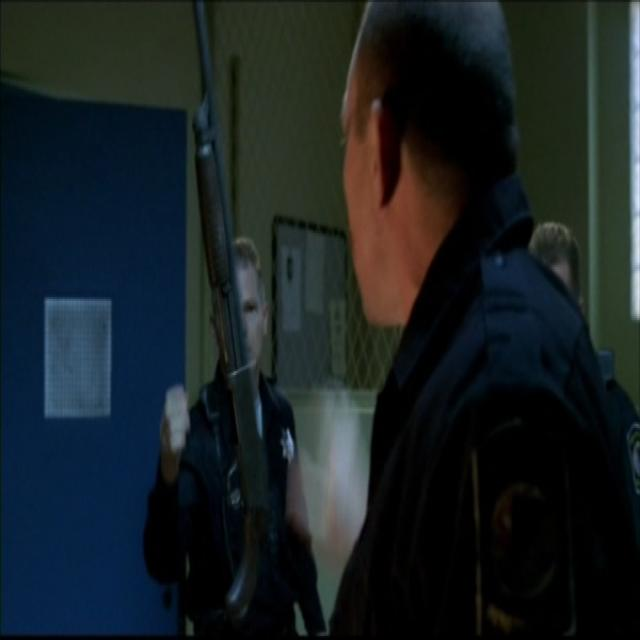rifle: (183, 1, 289, 640)
